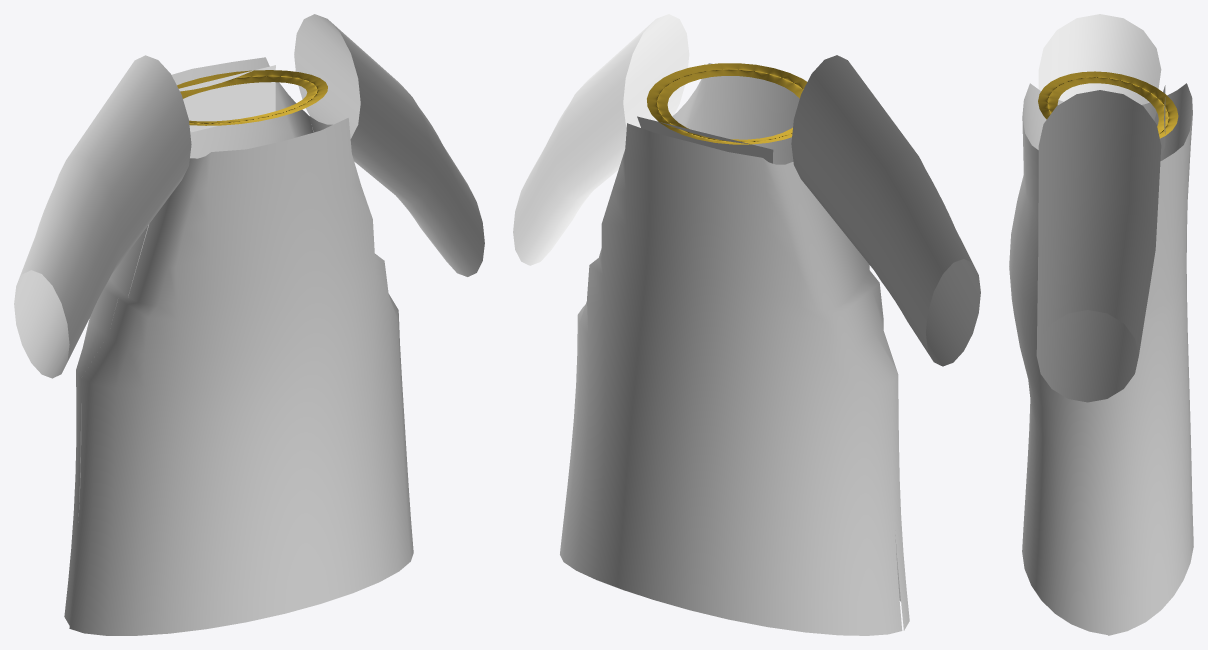
Rendered from raglan-crew.mobile.glb.
3 renders of one model, left to right at view 1: azimuth 30°, elevation 25°; view 2: azimuth 150°, elevation 25°; view 3: azimuth 270°, elevation 25°, orthographic. The views are drawn at different scales.
Visible parts, largest first — view 1: Jersey_raglan-crew; view 2: Jersey_raglan-crew; view 3: Jersey_raglan-crew.
Boxes of the visible parts, x1,y1,x2,y2 form: Jersey_raglan-crew: [14, 14, 484, 635]; Jersey_raglan-crew: [513, 14, 980, 635]; Jersey_raglan-crew: [1009, 14, 1193, 635].
Bounding box in the file's own units: 1.08 × 1.37 × 0.4521.
